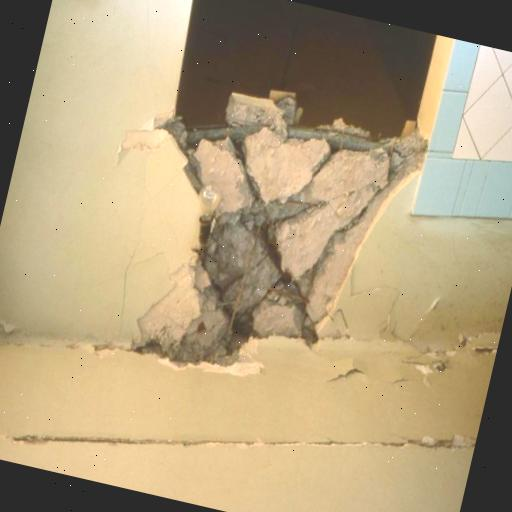spalling: (136, 126, 429, 381), (0, 419, 475, 461)
